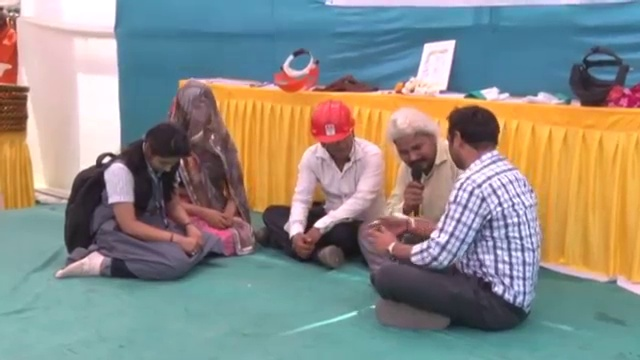helmet: (307, 97, 356, 147)
helmet_off: (444, 103, 502, 177), (132, 122, 193, 177), (389, 111, 442, 174), (174, 81, 221, 139), (0, 2, 19, 27)
helmet_on: (309, 92, 364, 154)
person: (362, 108, 540, 332), (56, 120, 210, 283), (260, 93, 399, 270), (356, 110, 460, 273), (165, 77, 256, 259), (0, 0, 25, 84)
